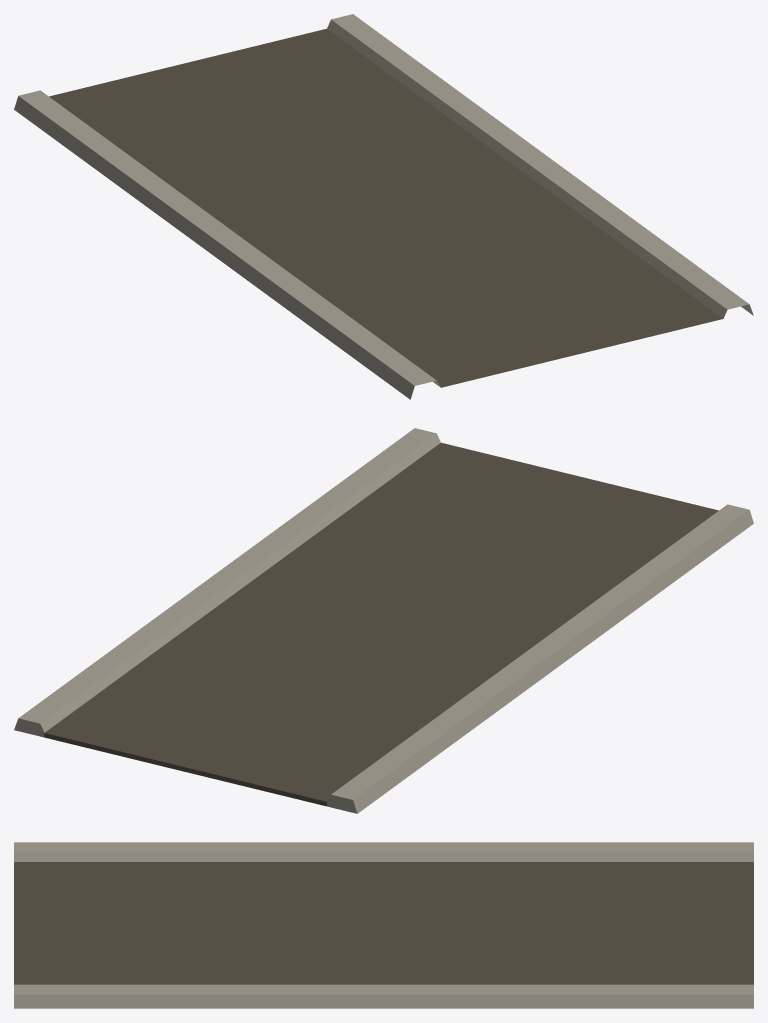
Rendered from ParkRoad_1_B.fbx.
3 views of the same model, one above another, from view 1: azimuth 30°, elevation 25°; view 2: azimuth 150°, elevation 25°; view 3: azimuth 270°, elevation 25° (orthographic). The views are drawn at different scales.
Parts seen in each view (by area): view 1: ParkRoad_1_B; view 2: ParkRoad_1_B; view 3: ParkRoad_1_B.
Part boxes in pixels (x1,y1,x2,y2): ParkRoad_1_B: [14, 14, 753, 399]; ParkRoad_1_B: [14, 428, 753, 813]; ParkRoad_1_B: [14, 842, 753, 1008].
Bounding box in the file's own units: 200 × 7.16 × 400.
